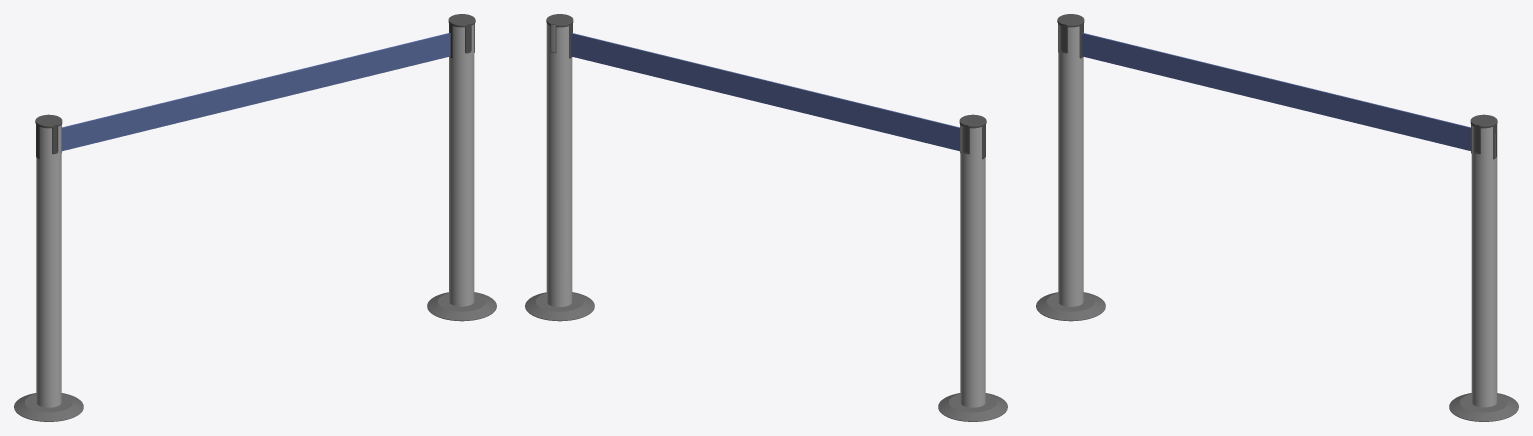
The model's file is TENSABARRIER_02.gltf.
3 views of the same model, side by side, from view 1: azimuth 30°, elevation 25°; view 2: azimuth 150°, elevation 25°; view 3: azimuth 330°, elevation 25° (orthographic).
Parts seen in each view (by area): view 1: 3DGeom-5, 3DGeom-6, 3DGeom-7, 3DGeom-1, 3DGeom-2, 3DGeom-3, 3DGeom-4; view 2: 3DGeom-5, 3DGeom-7, 3DGeom-6, 3DGeom-1, 3DGeom-2, 3DGeom-4, 3DGeom-3; view 3: 3DGeom-5, 3DGeom-7, 3DGeom-6, 3DGeom-1, 3DGeom-2, 3DGeom-3, 3DGeom-4.
Boxes of the visible parts, box(x1,y1,x2,y2) form: 3DGeom-5: box(62, 33, 450, 151); 3DGeom-6: box(36, 125, 61, 407); 3DGeom-7: box(449, 24, 474, 306); 3DGeom-1: box(14, 393, 83, 421); 3DGeom-2: box(427, 292, 496, 321); 3DGeom-3: box(448, 14, 475, 58); 3DGeom-4: box(35, 114, 62, 159); 3DGeom-5: box(571, 33, 959, 151); 3DGeom-7: box(546, 23, 572, 307); 3DGeom-6: box(960, 125, 985, 407); 3DGeom-1: box(938, 393, 1007, 421); 3DGeom-2: box(525, 292, 594, 321); 3DGeom-4: box(959, 114, 986, 159); 3DGeom-3: box(546, 14, 573, 58); 3DGeom-5: box(1082, 32, 1470, 150); 3DGeom-7: box(1471, 124, 1497, 407); 3DGeom-6: box(1058, 24, 1083, 306); 3DGeom-1: box(1036, 292, 1105, 321); 3DGeom-2: box(1449, 393, 1518, 421); 3DGeom-3: box(1470, 114, 1497, 159); 3DGeom-4: box(1057, 14, 1084, 58).
Size of the model in its own units: 1.5 by 0.867 by 0.191.
